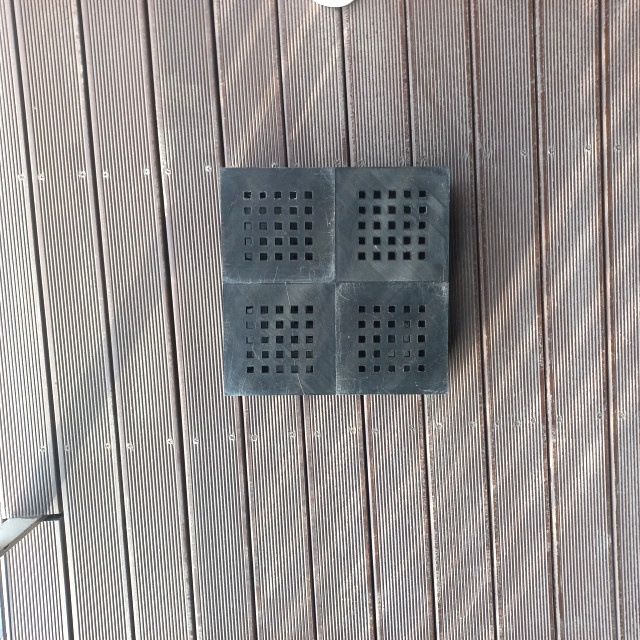pallet: (215, 170, 453, 399)
